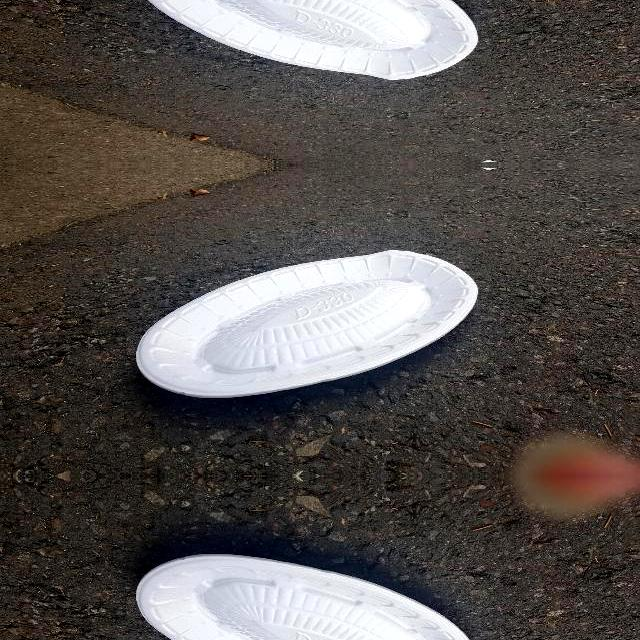Styrofoam: (136, 247, 478, 398), (135, 249, 479, 397), (135, 551, 478, 640), (135, 553, 471, 640), (135, 0, 478, 80), (149, 0, 479, 79)
